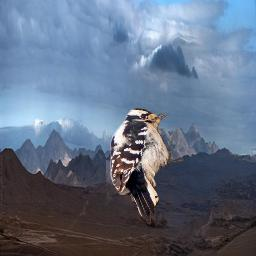Woodpecker: (106, 106, 185, 224)
